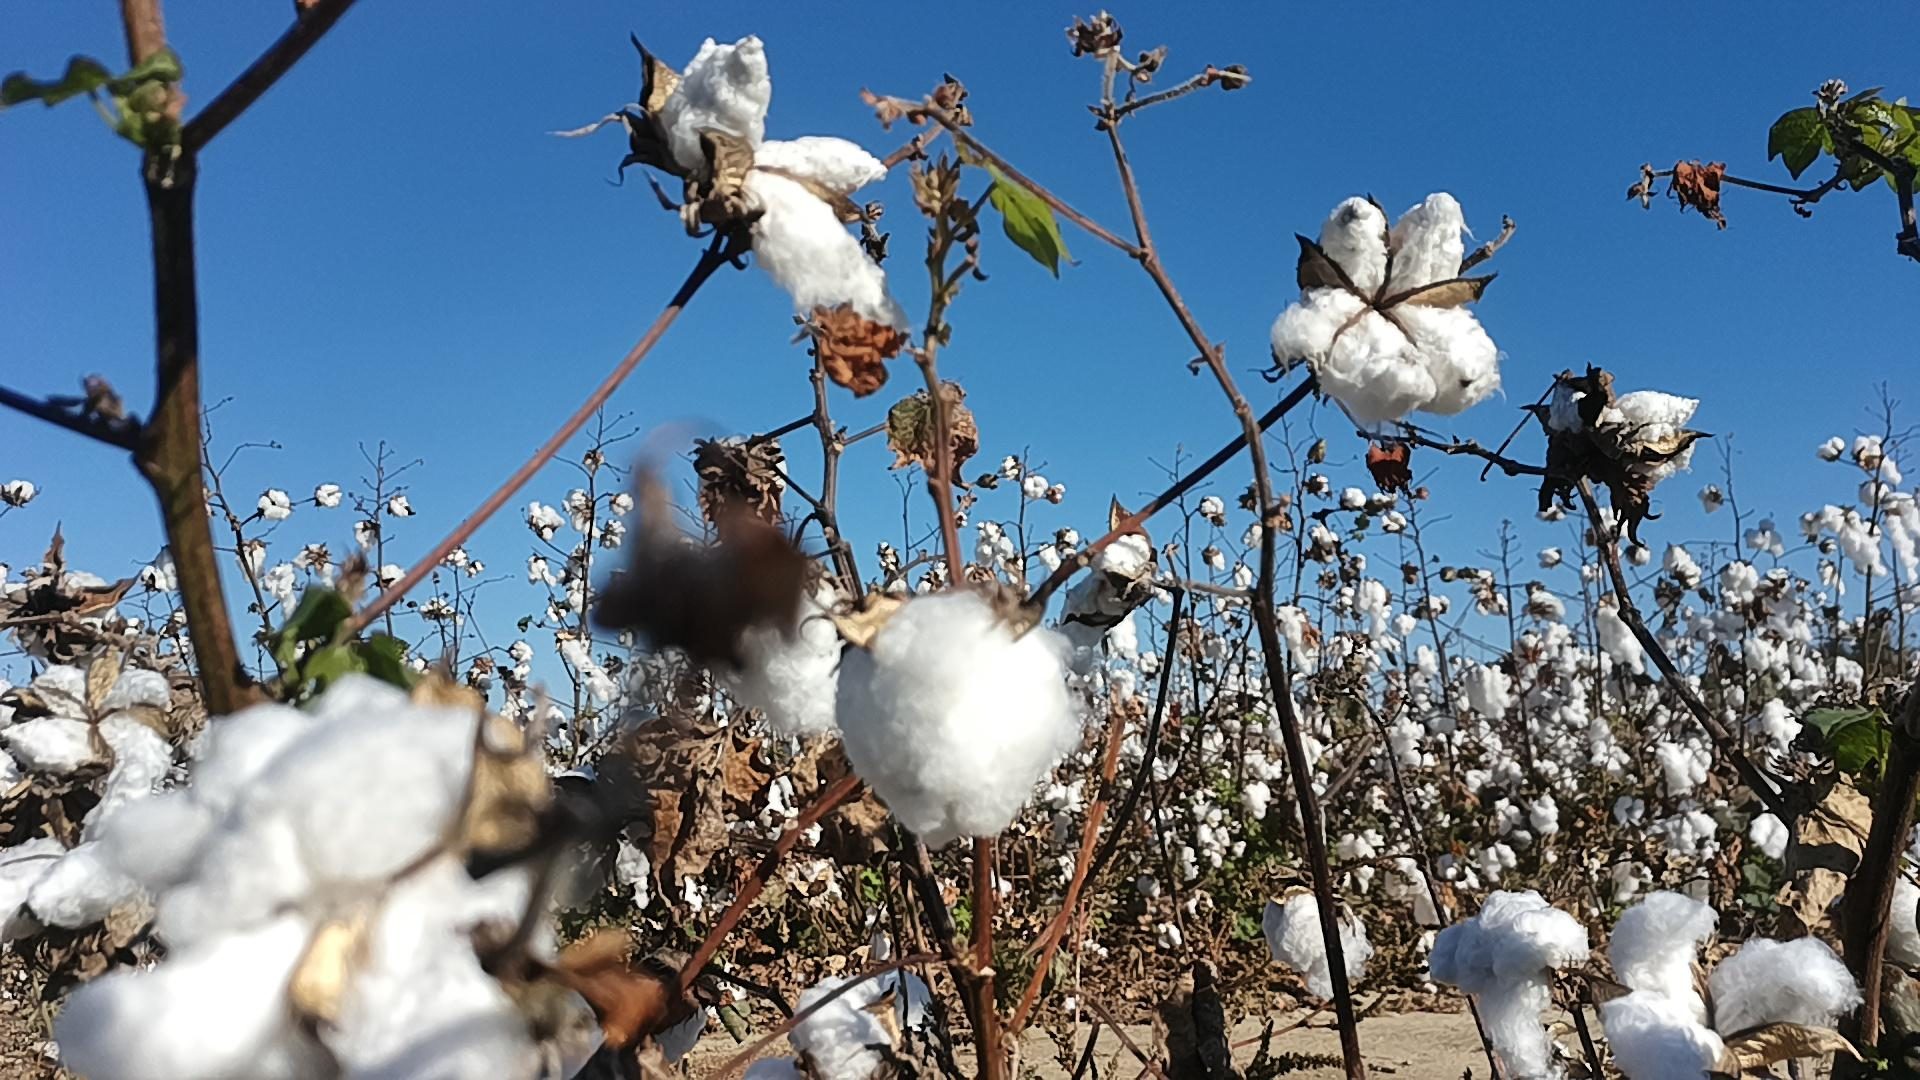cotton_ready: (50, 695, 535, 1080), (96, 680, 415, 895), (655, 36, 886, 323), (829, 593, 1083, 855), (1269, 193, 1499, 423), (1428, 887, 1588, 1080), (0, 748, 153, 940), (1, 666, 175, 831), (1596, 887, 1726, 1080), (713, 578, 848, 737), (491, 920, 608, 1080), (1545, 377, 1705, 483), (1709, 935, 1869, 1039), (793, 965, 930, 1080), (1261, 886, 1370, 1005), (1062, 530, 1155, 637), (8, 574, 113, 666)
